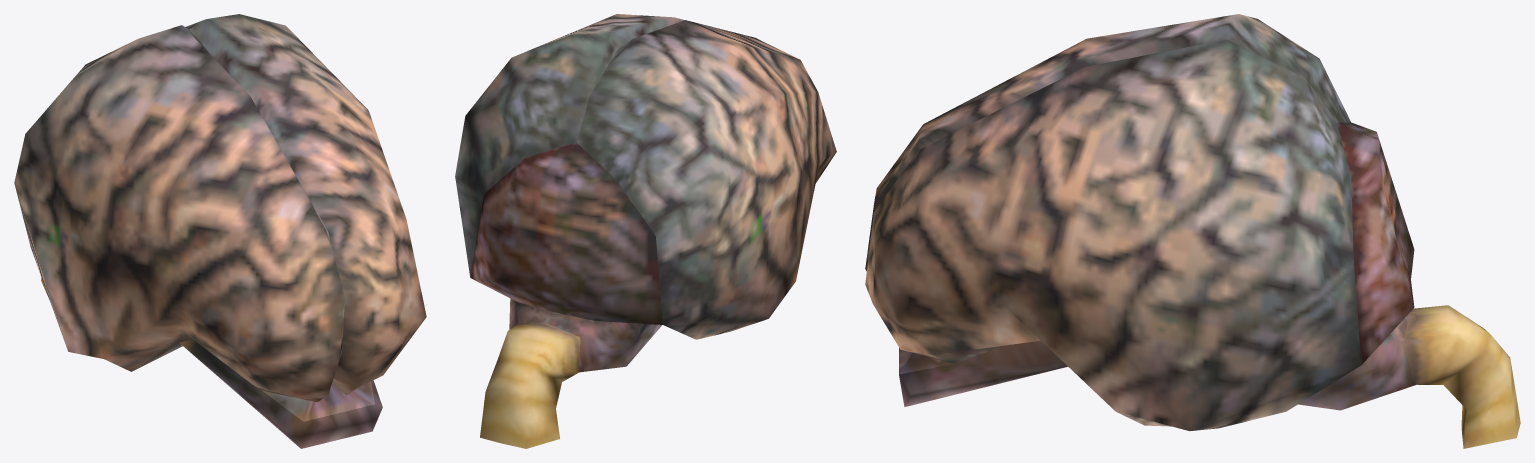
Rendered from eqp_organ_brain_s02_l1.fbx.
3 renders of one model, left to right at view 1: azimuth 30°, elevation 25°; view 2: azimuth 150°, elevation 25°; view 3: azimuth 270°, elevation 25°, orthographic. The views are drawn at different scales.
Visible parts, largest first — view 1: mesh_node; view 2: mesh_node; view 3: mesh_node.
Boxes of the visible parts, x1=… form: mesh_node: x1=14, y1=14, x2=426, y2=448; mesh_node: x1=455, y1=14, x2=836, y2=448; mesh_node: x1=865, y1=14, x2=1520, y2=448.
Size of the model in its own units: 0.1295 by 0.1485 by 0.2229.
